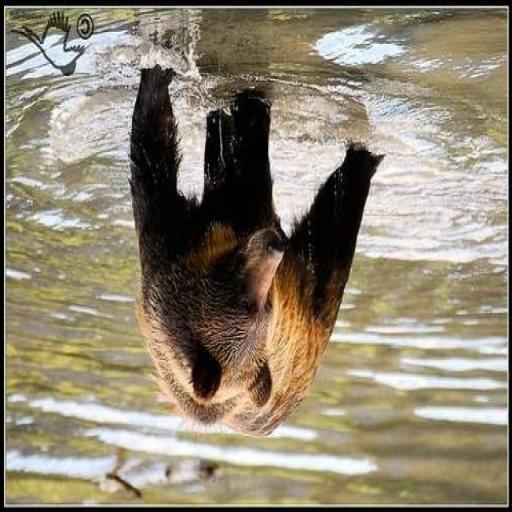Bear: (127, 60, 385, 438)
